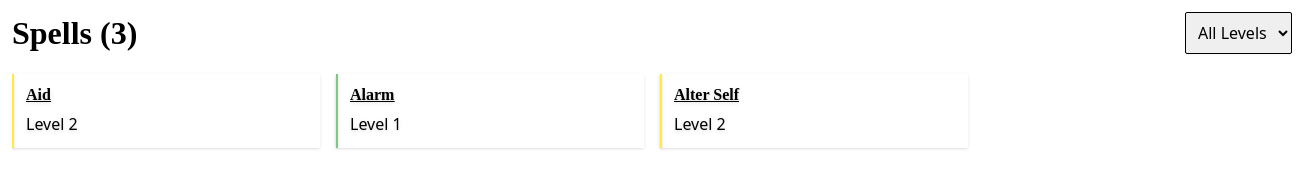
Test: Spell List Page › filter select works
The image size is (1304, 172).
// select level from dropdown
Select "Level 1" in the dropdown with test id "level-select" at {"x": 1238, "y": 33}, box [1185,12,1292,54]
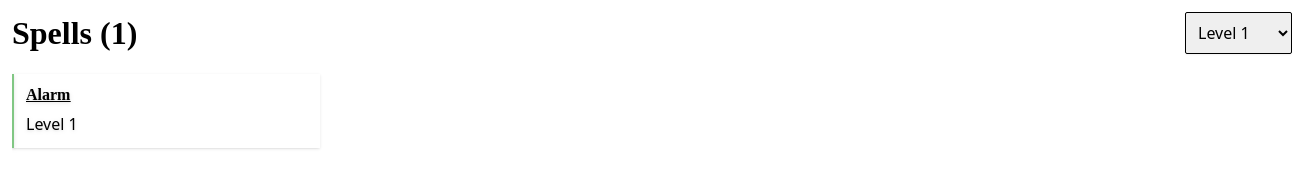
Expected: the number of list items is 1, [12,74,320,148]
Expected: the link "Aid" is gone
